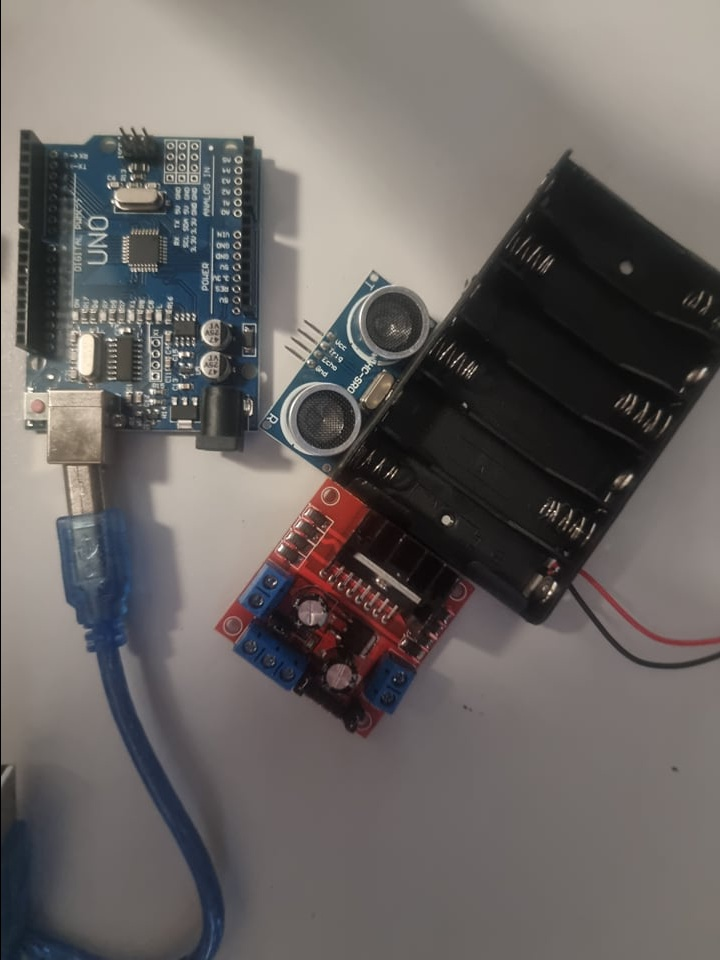BATTERY BOX: (352, 143, 718, 625)
MOTOR: (214, 477, 469, 738)
SENSOR: (257, 270, 433, 465)
UNO R3: (7, 129, 265, 467)
